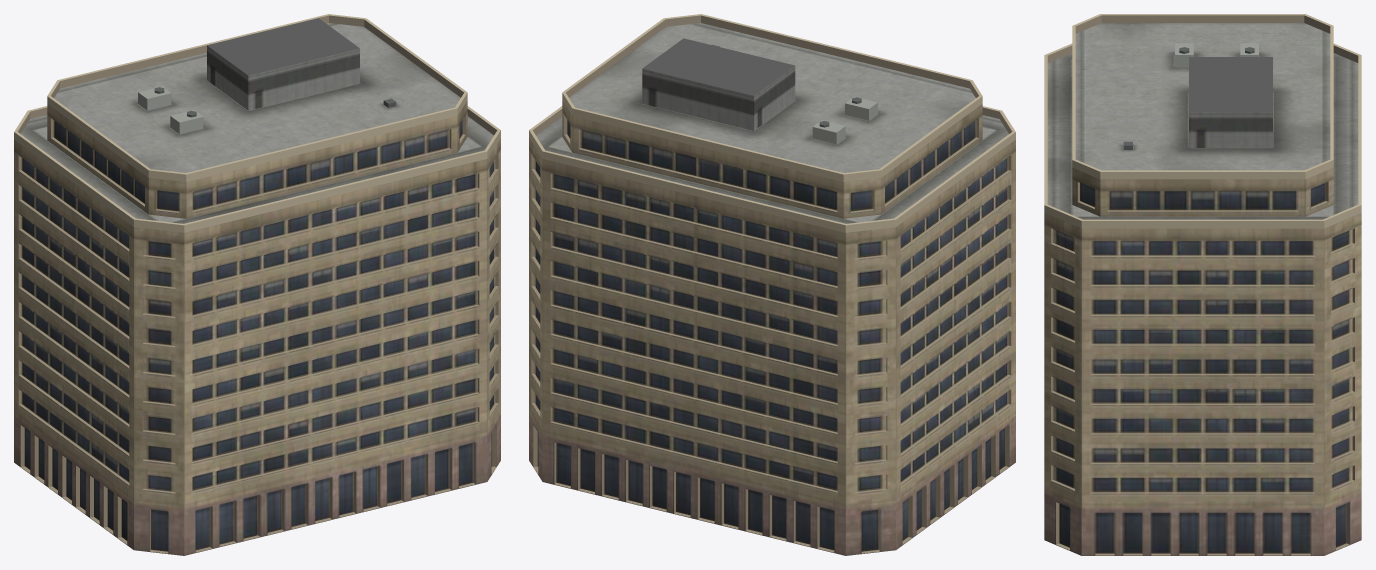
File: dc_office_band_a.glb
3 views of the same model, side by side, from view 1: azimuth 30°, elevation 25°; view 2: azimuth 150°, elevation 25°; view 3: azimuth 270°, elevation 25° (orthographic).
Visible parts, largest first — view 1: dc_office_band_a; view 2: dc_office_band_a; view 3: dc_office_band_a.
Part boxes in pixels (x1,y1,x2,y2): dc_office_band_a: [14, 14, 500, 555]; dc_office_band_a: [529, 14, 1015, 555]; dc_office_band_a: [1044, 14, 1361, 555].
Size of the model in its own units: 46 by 47.3 by 34.
1 material, 1 textured.
